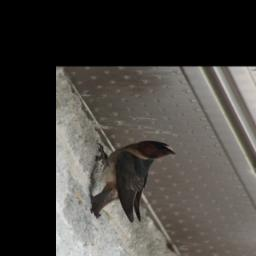Swallow: (87, 140, 176, 223)
